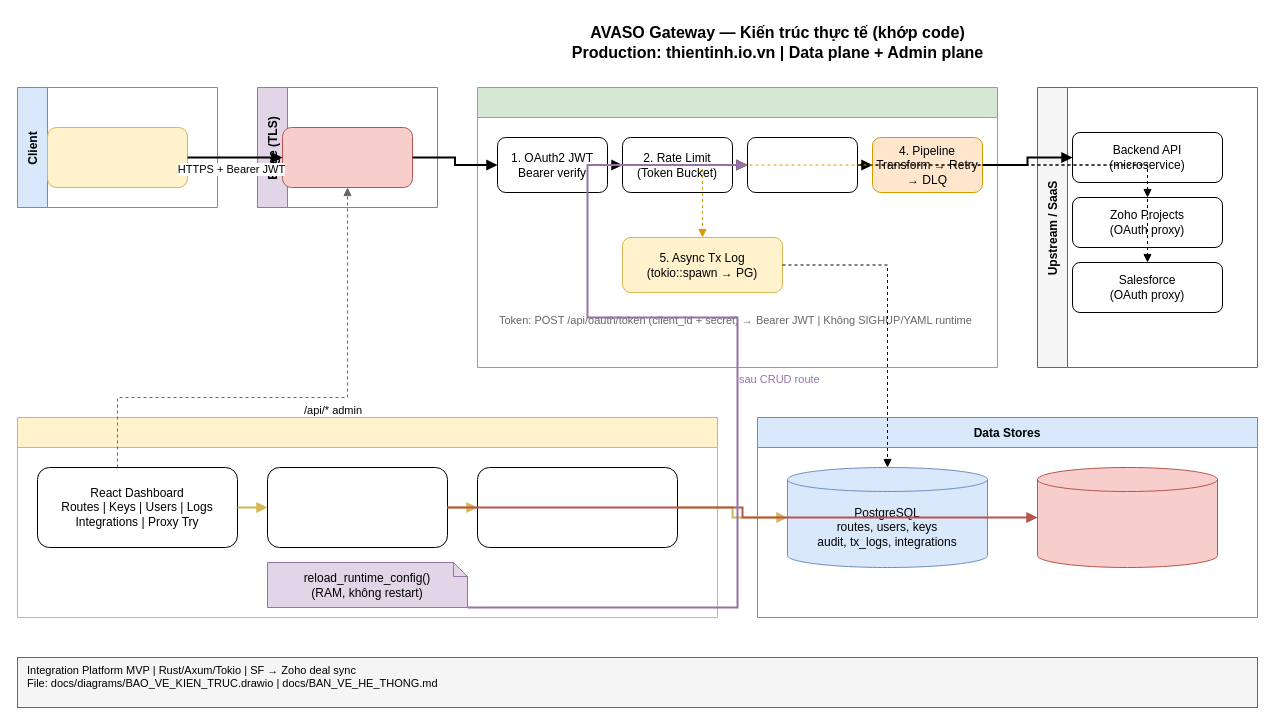
The diagram is 1275 pixels wide and 725 high, and some of its shapes have lost their labels. Here are the shapes that lost their labels. From the top down, the box of each, then its label:
(46, 126, 188, 188): Mobile App / Partner System
(282, 126, 412, 188): Nginx HTTPS :443
(746, 136, 858, 192): 3. Longest Prefix Match
(476, 86, 998, 368): AVASO Gateway — Data Plane (/v1/api/*)
(266, 466, 448, 548): Session + RBAC Cookie HttpOnly Admin / Operator / Viewer
(16, 416, 718, 618): Control Plane — Admin (/api/* + React SPA)
(476, 466, 678, 548): CRUD API Route / Key / User Forgot pwd OTP (Brevo)
(1036, 466, 1218, 568): Redis session admin OTP quên MK
